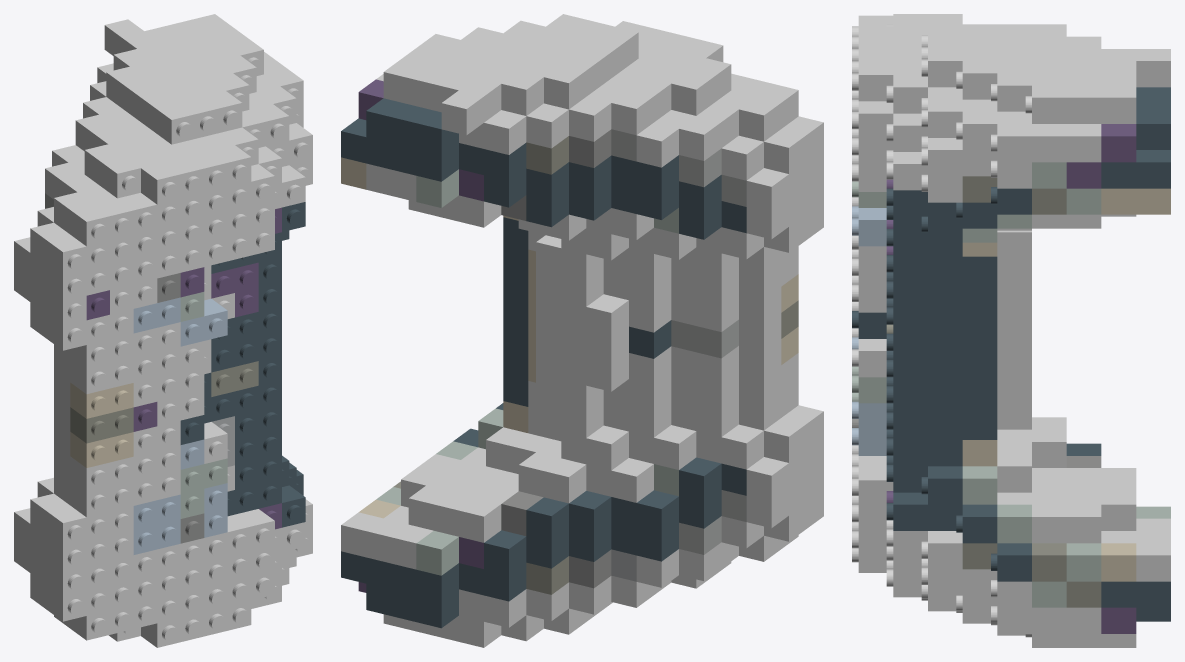
File: full.glb
3 views of the same model, side by side, from view 1: azimuth 30°, elevation 25°; view 2: azimuth 150°, elevation 25°; view 3: azimuth 270°, elevation 25° (orthographic). The views are drawn at different scales.
Parts seen in each view (by area): view 1: world; view 2: world; view 3: world.
Part boxes in pixels (x1,y1,x2,y2): world: (14,14,312,647); world: (341,14,823,647); world: (852,14,1170,647).
Bounding box in the file's own units: 104 × 168 × 88.2.
